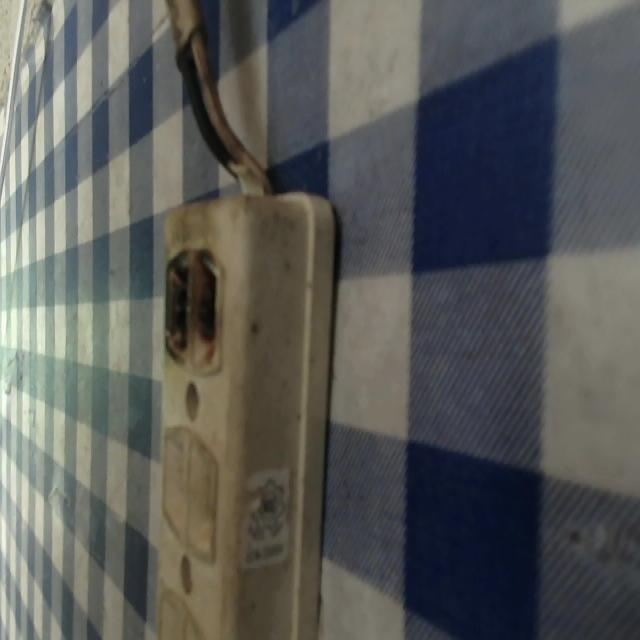-: (164, 241, 232, 367)
